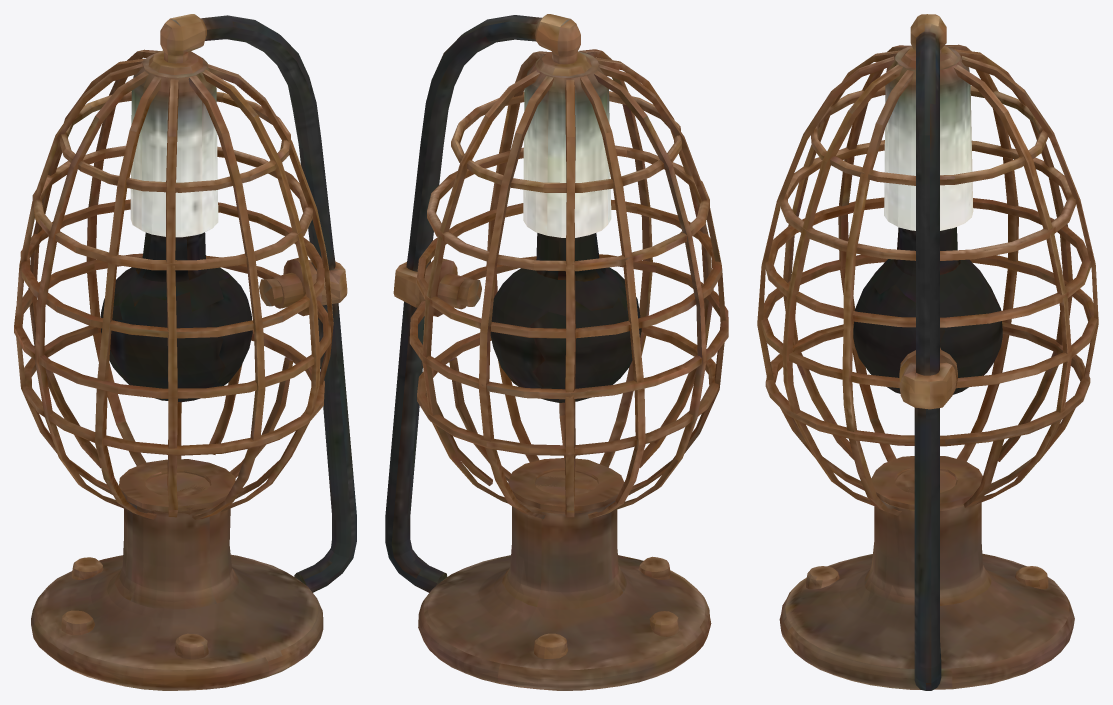
Rendered from ship_caglamp.glb.
The picture shows the model from 3 angles, left to right: view 1: azimuth 30°, elevation 25°; view 2: azimuth 150°, elevation 25°; view 3: azimuth 270°, elevation 25°; orthographic projection.
Parts seen in each view (by area): view 1: mesh_node; view 2: mesh_node; view 3: mesh_node.
Part boxes in pixels (x1,y1,x2,y2): mesh_node: [14, 14, 356, 690]; mesh_node: [385, 14, 728, 690]; mesh_node: [757, 14, 1098, 690].
Size of the model in its own units: 1.04 by 1.91 by 0.959.
1 material, 1 textured.
